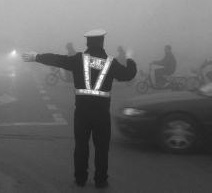person: (20, 26, 138, 190), (149, 46, 179, 84), (63, 43, 78, 81), (117, 46, 127, 62)
